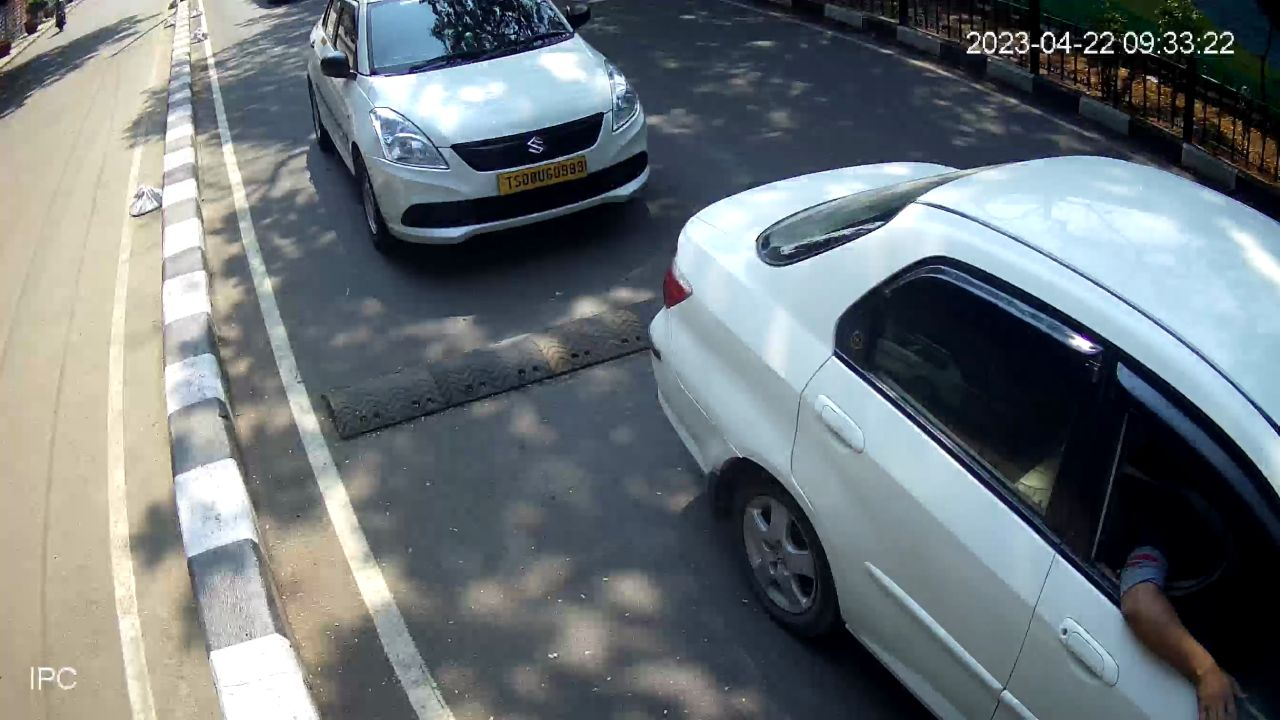license_plate: (493, 152, 590, 201)
